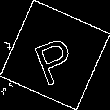P_N: (29, 25, 81, 85)
